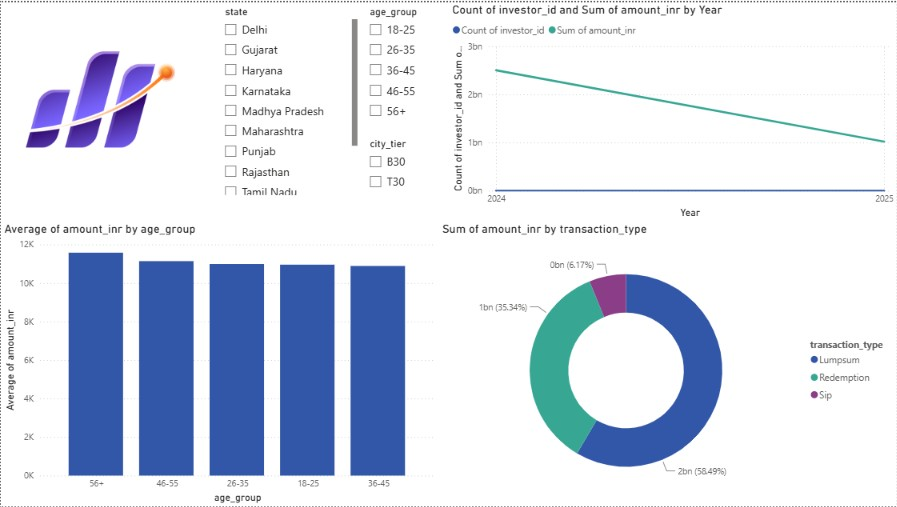

What the dashboard file says about the page in this screenshot:
{"tool":"powerbi","page":{"name":"Investor Analytics","canvas":[1280,720],"ordinal":2},"visuals":[{"type":"slicer","fields":{"Values":["clean_transactions.state"]},"box":[307.1,0,207.1,280],"z":0},{"type":"slicer","fields":{"Values":["clean_transactions.age_group"]},"box":[514.3,0,111.4,188.6],"z":1},{"type":"slicer","fields":{"Values":["clean_transactions.city_tier"]},"box":[514.3,188.6,111.4,91.4],"z":2},{"type":"donutChart","fields":{"Y":["Sum(clean_transactions.amount_inr)"],"Category":["clean_transactions.transaction_type"]},"box":[625.7,312.9,654.3,407.1],"z":3},{"type":"clusteredColumnChart","fields":{"Category":["clean_transactions.age_group"],"Y":["Avg(clean_transactions.amount_inr)"]},"box":[0,312.9,625.7,407.1],"z":4},{"type":"lineChart","fields":{"Category":["clean_transactions.transaction_date.Variation.Date Hierarchy.Year","clean_transactions.transaction_date.Variation.Date Hierarchy.Quarter","clean_transactions.transaction_date.Variation.Date Hierarchy.Month","clean_transactions.transaction_date.Variation.Date Hierarchy.Day"],"Y":["CountNonNull(clean_transactions.investor_id)","Sum(clean_transactions.amount_inr)"]},"box":[640,0,640,312.9],"z":5},{"type":"image","box":[0,0,281.4,280],"z":6}]}

Visuals, with their boxes in screenshot pixels (x1, y1, x2, y2), scaled from the page's 1280x720 canvas onto the 897x507 screenshot:
slicer - clean_transactions.state: 215 0 360 197
slicer - clean_transactions.age_group: 360 0 438 133
slicer - clean_transactions.city_tier: 360 133 438 197
donutChart - Sum(clean_transactions.amount_inr) x clean_transactions.transaction_type: 438 220 896 506
clusteredColumnChart - clean_transactions.age_group x Avg(clean_transactions.amount_inr): 0 220 438 506
lineChart - clean_transactions.transaction_date.Variation.Date Hierarchy.Year x clean_transactions.transaction_date.Variation.Date Hierarchy.Quarter: 448 0 896 220
image: 0 0 197 197
